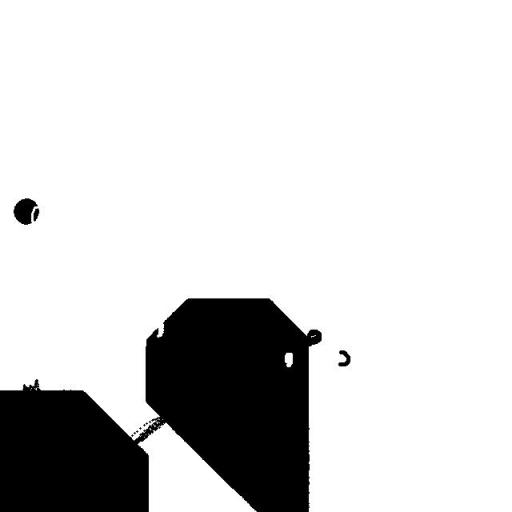copper: (330, 342, 358, 374)
mousebite: (149, 314, 171, 344)
open: (23, 198, 46, 230)
pin-hole: (277, 345, 300, 374)
short: (116, 401, 187, 455)
spur: (14, 372, 49, 402), (298, 323, 328, 351)
